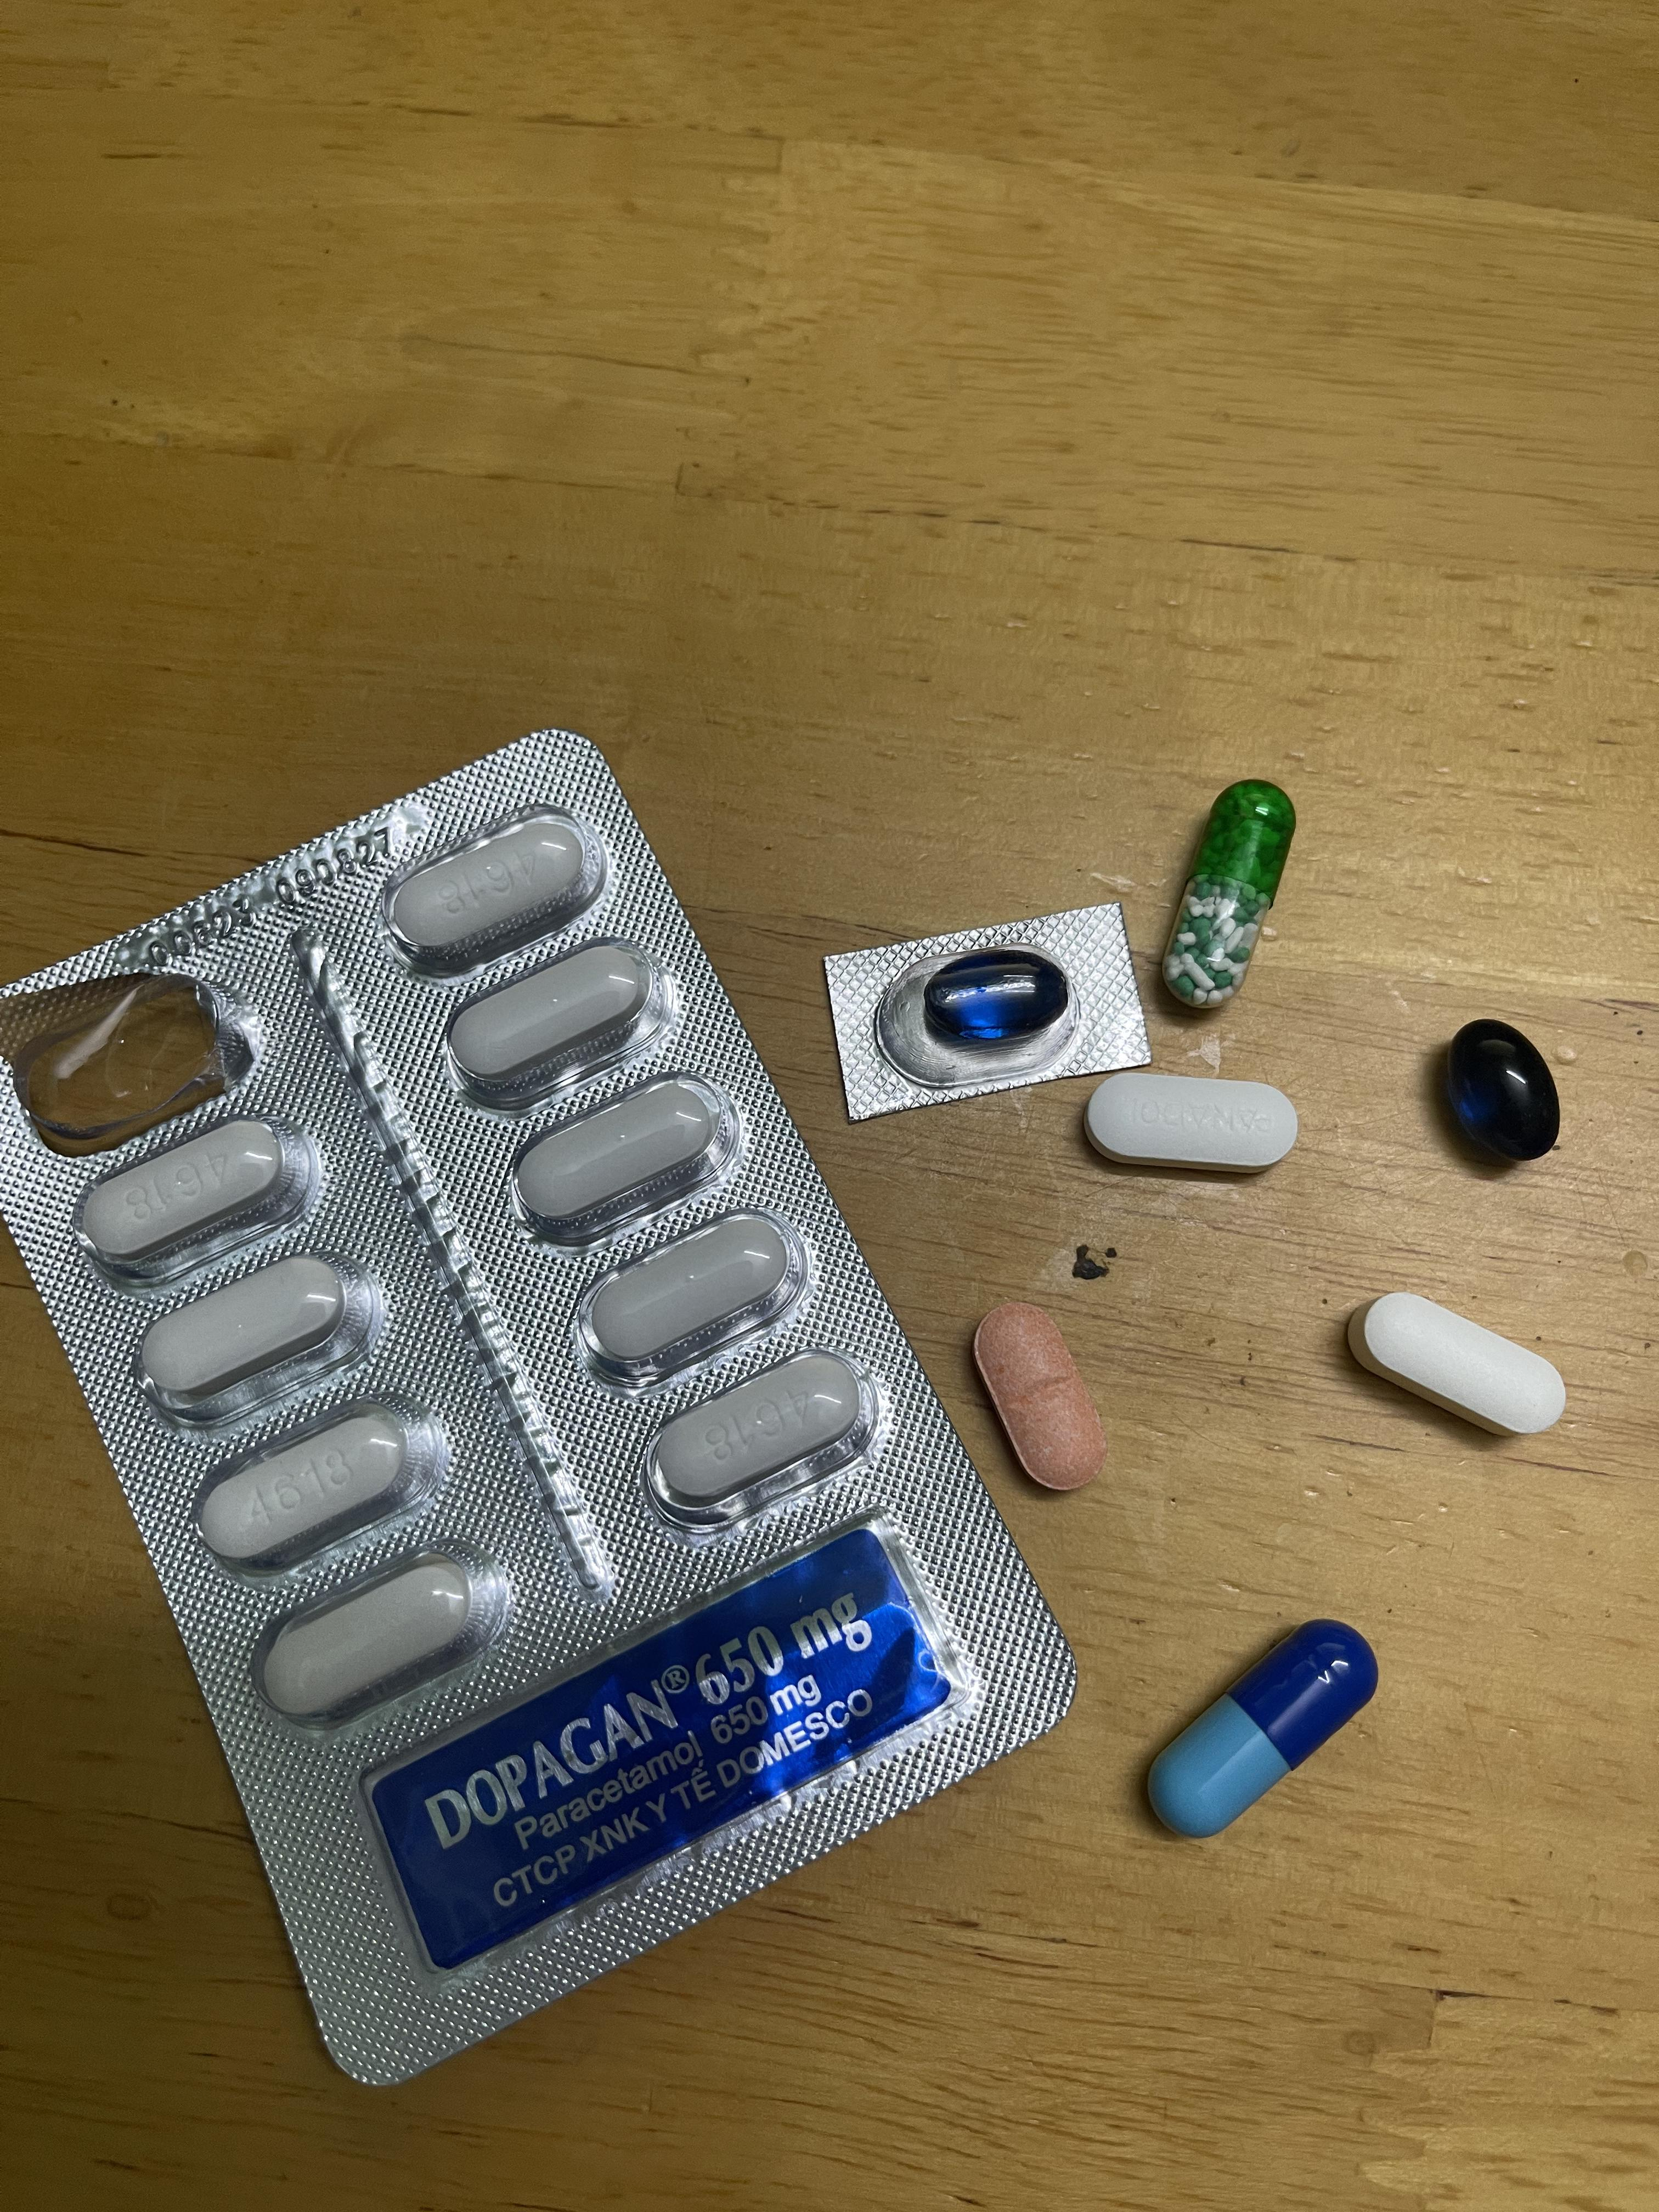Lincomyxin_500mg: (1446, 1019, 1563, 1158), (920, 953, 1070, 1045)
Loratadine_10mg: (972, 1301, 1110, 1491)
Paracetamol_350mg: (1089, 1069, 1298, 1172)
Paracetamol_500mg: (188, 1390, 450, 1576), (251, 1540, 511, 1726), (570, 1205, 805, 1392), (507, 1069, 742, 1249), (136, 1244, 380, 1407), (643, 1348, 861, 1522), (439, 941, 653, 1108), (82, 1116, 291, 1261), (1356, 1294, 1563, 1439), (390, 813, 591, 954)
Paracetamol_650mg: (1162, 786, 1290, 1007)
pill: (1150, 1625, 1371, 1838)
